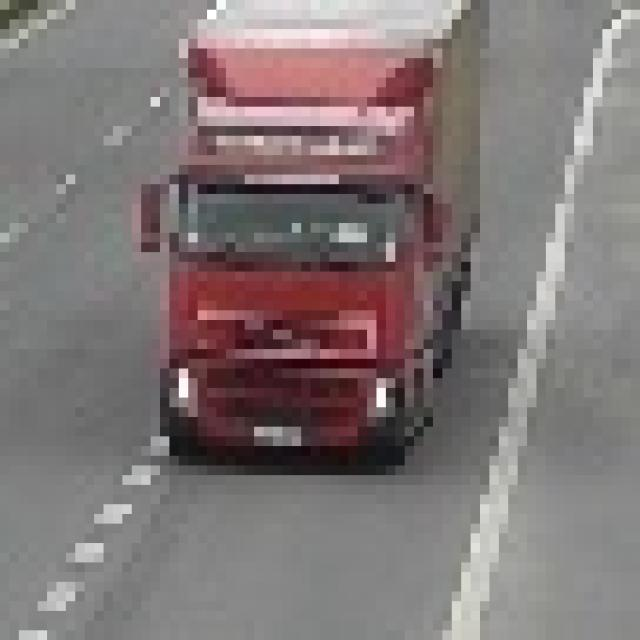TRUCK: (141, 0, 479, 471)
